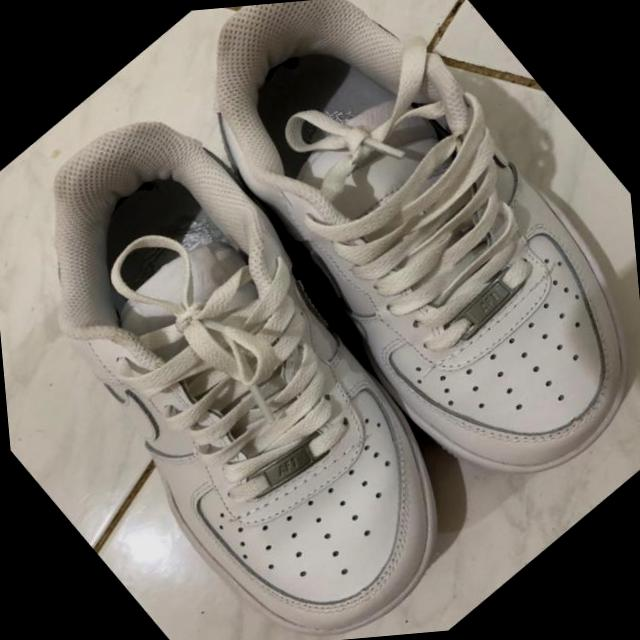nike_fake_airforce: (0, 47, 529, 640), (126, 0, 640, 534)
